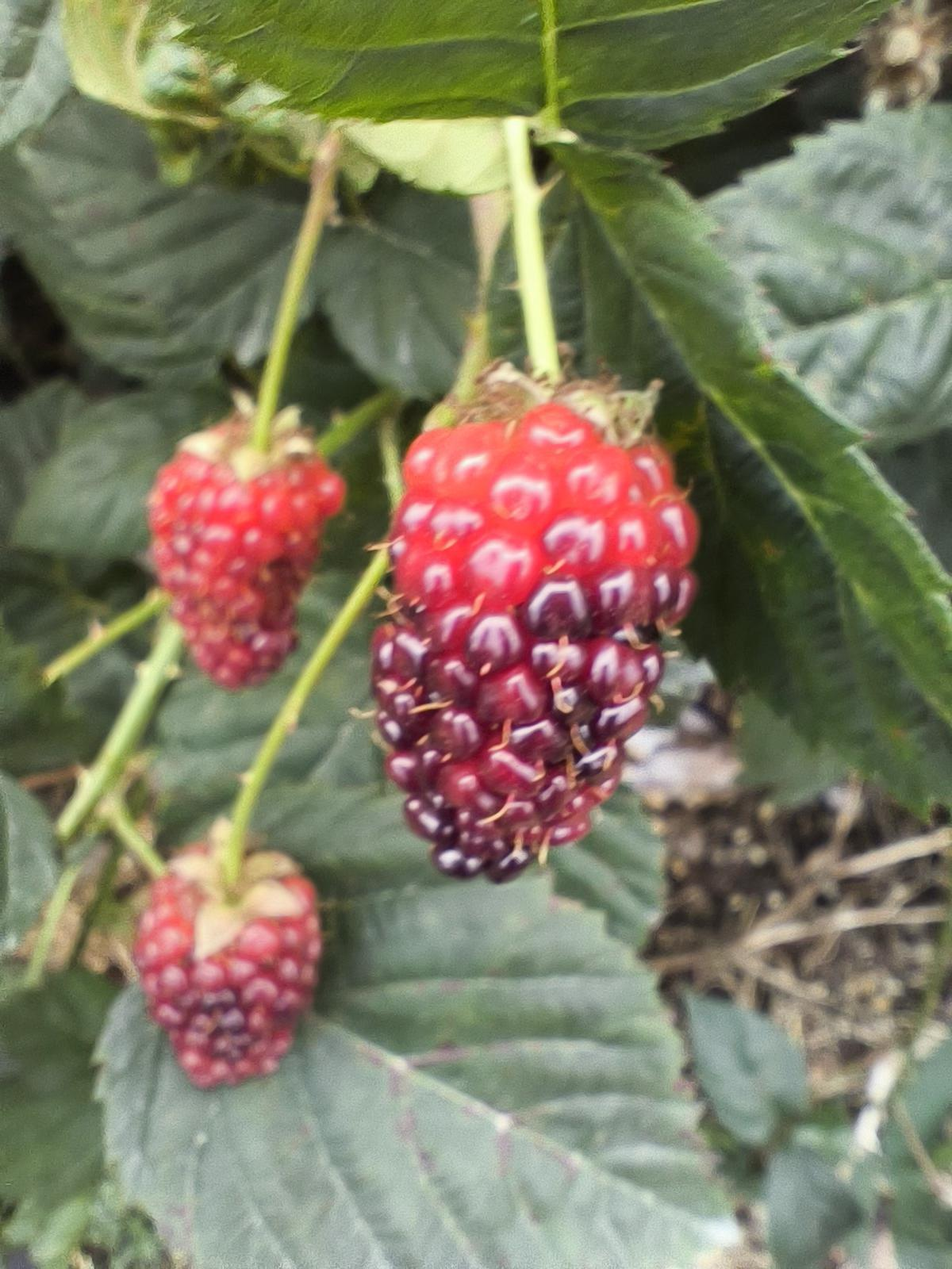marron: (372, 399, 697, 883), (148, 412, 344, 689), (134, 839, 321, 1086)
